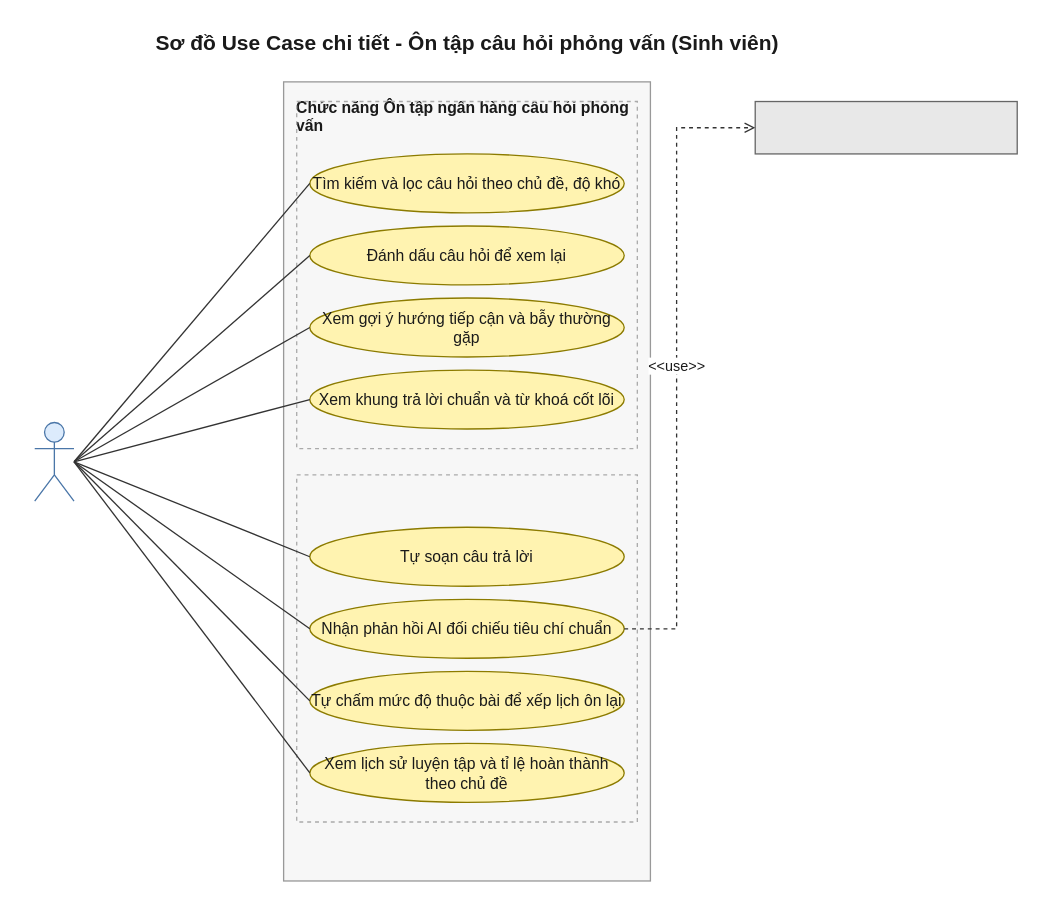
The diagram is 1040 pixels wide and 904 high, and some of its shapes have lost their labels. The box of each missing label's shape, as (x1, y1, x2, y2) in pixels:
Chế độ học (F6-01 tới F6-06): (295, 100, 637, 449)
Chế độ luyện và ôn lại (F6-07 tới F6-10, F6-12): (295, 474, 637, 822)
Nhà cung cấp LLM: (754, 100, 1017, 154)
Sinh viên: (33, 421, 74, 501)
